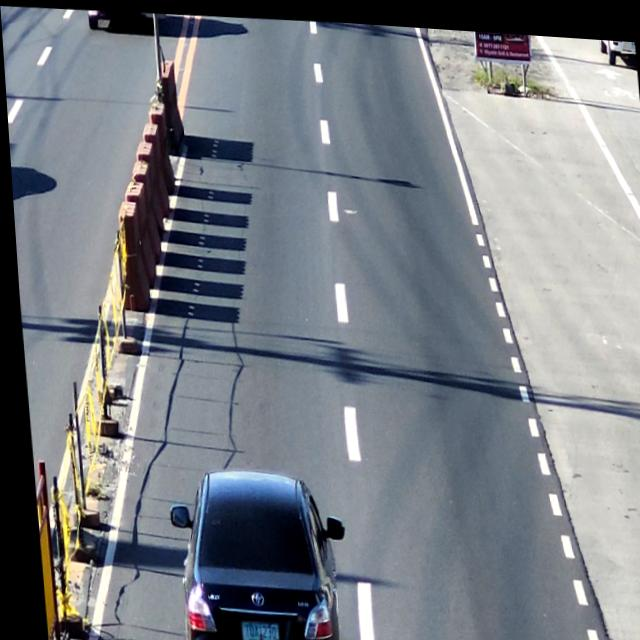Car: (160, 457, 344, 640)
License-Plate: (228, 614, 275, 640)
